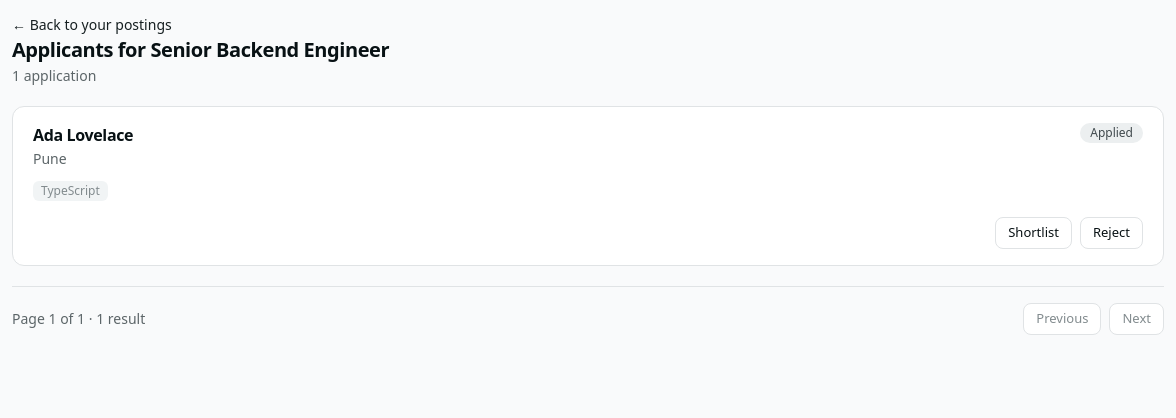
Test: JobApplicantsPage › surfaces a refused status change
Expected: the heading "Ada Lovelace" is shown, [33,123,133,147]
Click the button "Shortlist".
click(1034, 233)  # box [995,217,1072,249]
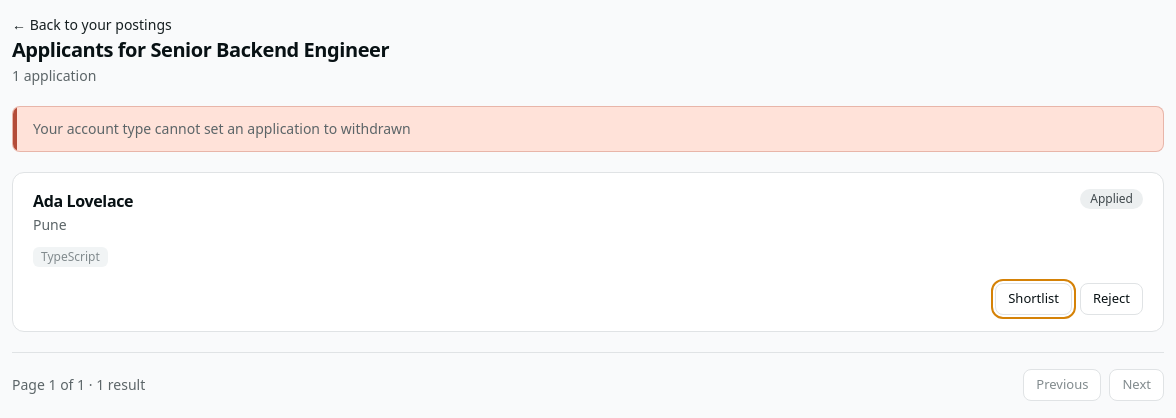
Expected: the message shows "cannot set an application", [33,119,411,138]
